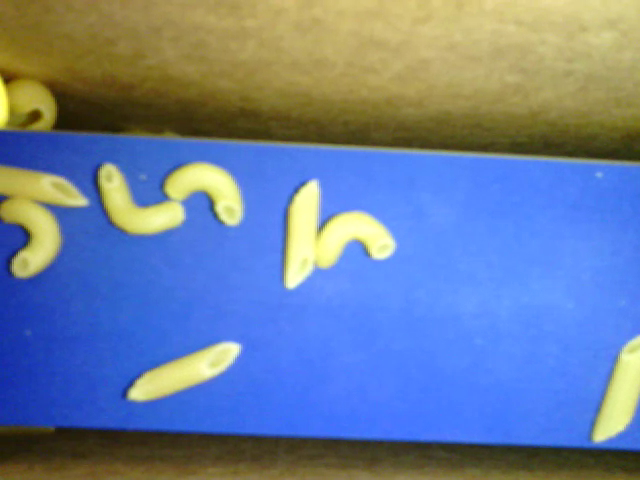elbow: (95, 161, 185, 236), (166, 159, 243, 232), (316, 208, 396, 273), (3, 197, 62, 279)
penne: (124, 340, 243, 408), (588, 335, 639, 447), (284, 178, 321, 294), (1, 167, 93, 208)
shell: (3, 77, 62, 135)
